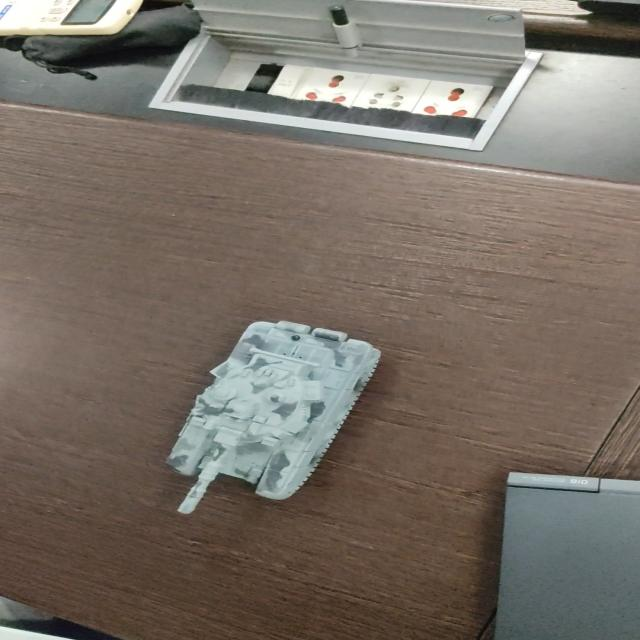tank: (169, 316, 379, 513)
